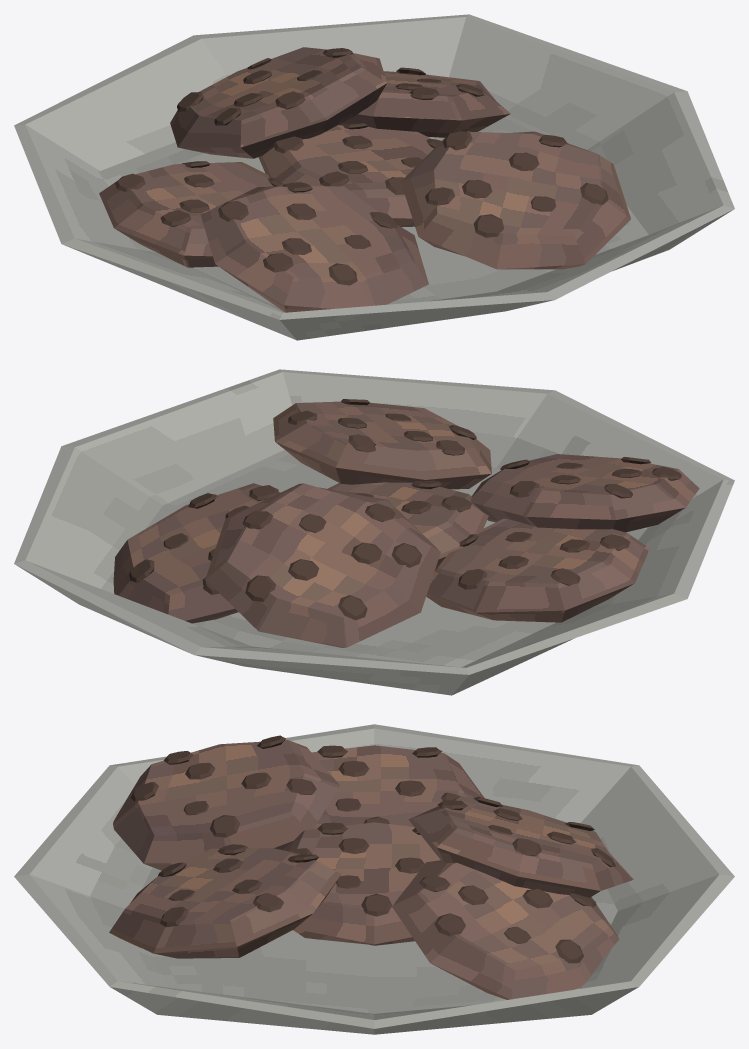
The model's file is Cookie.fbx.
The picture shows the model from 3 angles, top to bottom: view 1: azimuth 30°, elevation 25°; view 2: azimuth 150°, elevation 25°; view 3: azimuth 270°, elevation 25°; orthographic projection.
Parts seen in each view (by area): view 1: Cube.005; view 2: Cube.005; view 3: Cube.005.
Part boxes in pixels (x1,y1,x2,y2): Cube.005: [14, 14, 734, 340]; Cube.005: [14, 369, 734, 695]; Cube.005: [14, 724, 734, 1034].
Size of the model in its own units: 388 by 65.99 by 388.
1 material, 1 textured.
